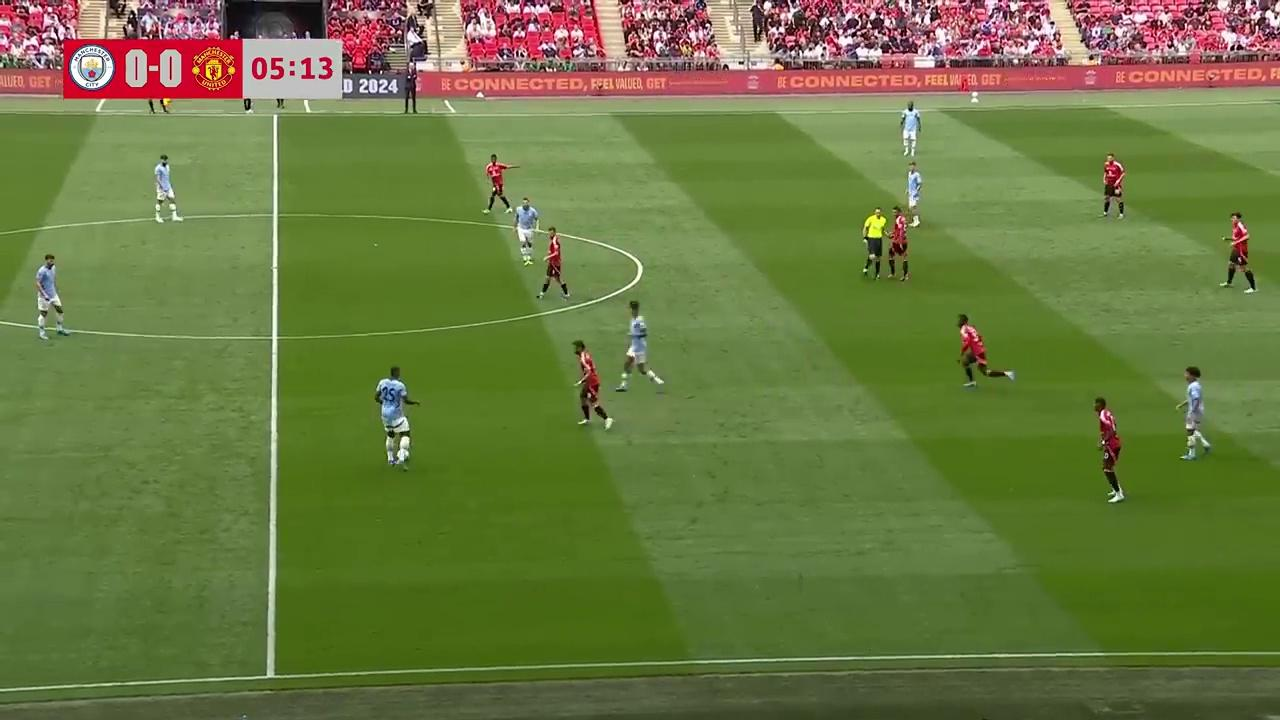ball: (1004, 367, 1017, 382)
player: (374, 365, 418, 470), (616, 301, 664, 393), (572, 342, 614, 430), (1175, 366, 1213, 460), (1094, 397, 1126, 503), (957, 314, 1001, 388), (35, 253, 67, 341), (1220, 212, 1256, 290), (536, 227, 570, 301), (152, 154, 183, 222), (482, 153, 515, 215), (884, 208, 910, 283), (512, 197, 539, 267), (1102, 153, 1125, 219), (899, 103, 921, 158), (905, 161, 923, 227)
referee: (861, 207, 886, 280), (146, 74, 172, 115)
